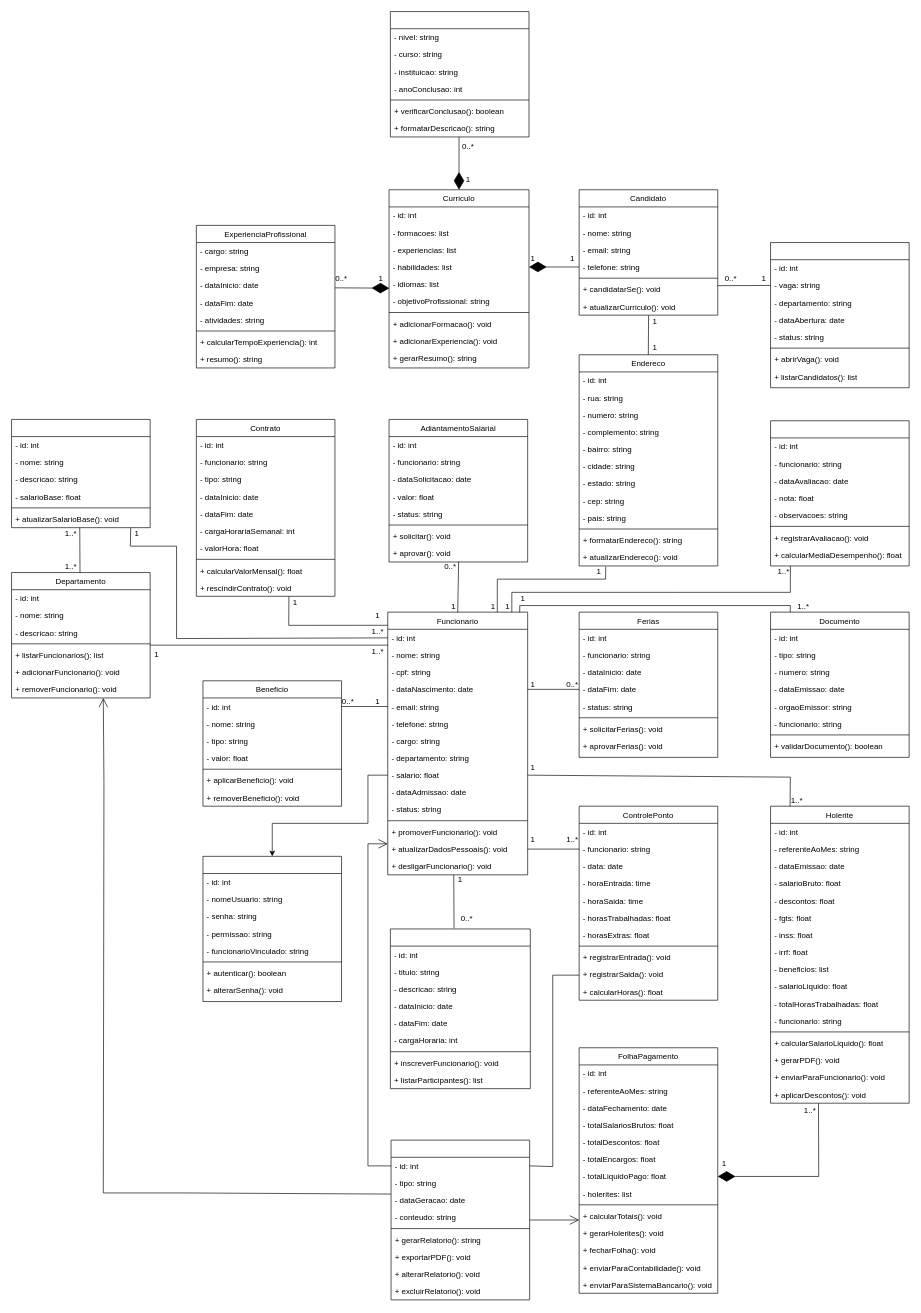
Some shapes in this 921 by 1313 pixel diagram are drawn without their labels. Each missing label, with the box of its shape:
AvaliacaoDesempenho: (770, 420, 909, 566)
Cargo: (11, 419, 150, 528)
Formacao: (390, 11, 529, 137)
Recrutamento: (770, 242, 909, 388)
RelatorioRH: (390, 1139, 530, 1300)
Treinamento: (390, 928, 530, 1089)
UsuarioSistema: (202, 856, 342, 1002)
